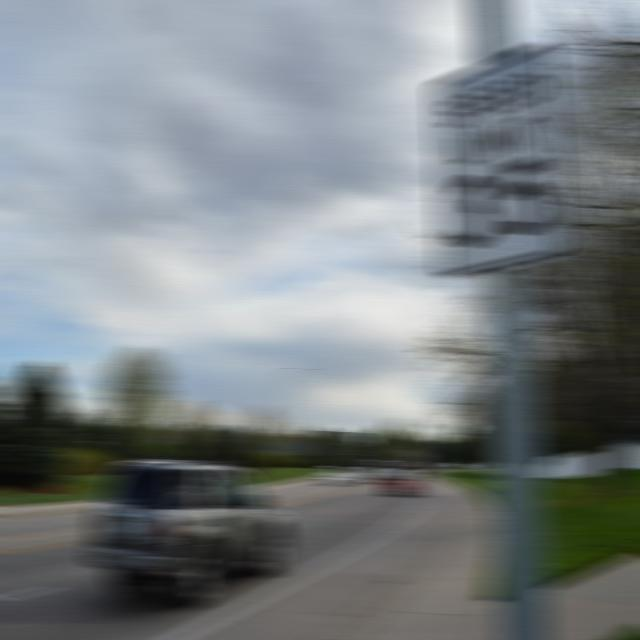speedLimit35: (436, 32, 558, 286)
